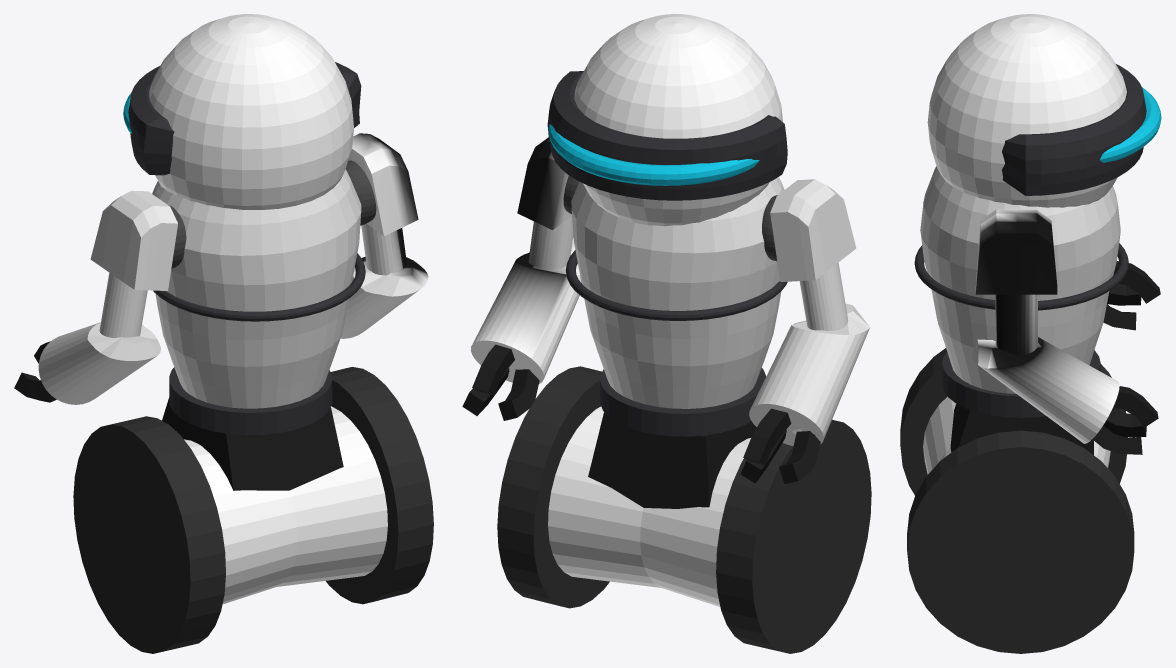
The model's file is robot1.fbx.
3 renders of one model, left to right at view 1: azimuth 30°, elevation 25°; view 2: azimuth 150°, elevation 25°; view 3: azimuth 270°, elevation 25°, orthographic. The views are drawn at different scales.
Visible parts, largest first — view 1: Сфера, Сфера.001, Цилиндр.001, Цилиндр, Куб.002, Цилиндр.002, Куб.001, Куб, Цилиндр.003, Torus, Torus.002, Сфера.002 (+1 smaller); view 2: Сфера, Цилиндр.001, Сфера.001, Цилиндр, Куб.002, Цилиндр.002, Куб.001, Torus, Куб, Цилиндр.003, Torus.001, Torus.002 (+7 smaller); view 3: Цилиндр.002, Сфера.001, Сфера, Куб.001, Torus, Цилиндр.001, Куб, Цилиндр.003, Torus.002, Цилиндр, Torus.001, Куб.004 (+5 smaller).
Boxes of the visible parts, x1,y1,x2,y2 form: Сфера: (152,169,361,408); Сфера.001: (149,14,353,209); Цилиндр.001: (73,416,225,653); Цилиндр: (184,406,387,604); Куб.002: (38,190,177,404); Цилиндр.002: (326,367,433,604); Куб.001: (340,133,428,338); Куб: (162,397,343,490); Цилиндр.003: (169,367,332,435); Torus: (128,62,361,175); Torus.002: (153,253,365,321); Сфера.002: (345,160,376,225); Сфера: (571,177,784,408); Цилиндр.001: (716,419,871,653); Сфера.001: (574,14,782,226); Цилиндр: (548,406,750,606); Куб.002: (749,179,869,446); Цилиндр.002: (497,366,609,608); Куб.001: (470,137,581,383); Torus: (547,71,787,200); Куб: (588,412,756,508); Цилиндр.003: (600,368,766,436); Torus.001: (548,124,759,185); Torus.002: (565,250,787,320); Цилиндр.002: (907,430,1134,653); Сфера.001: (927,14,1126,207); Сфера: (920,166,1120,393); Куб.001: (972,209,1119,443); Torus: (1002,64,1146,195); Цилиндр.001: (900,348,1127,495); Куб: (950,403,1093,455); Цилиндр.003: (942,350,1100,417); Torus.002: (914,243,1128,310); Цилиндр: (923,396,1110,474); Torus.001: (1100,87,1161,162); Куб.004: (1113,386,1158,427).
Bounding box in the file's own units: 374 × 618 × 255.
